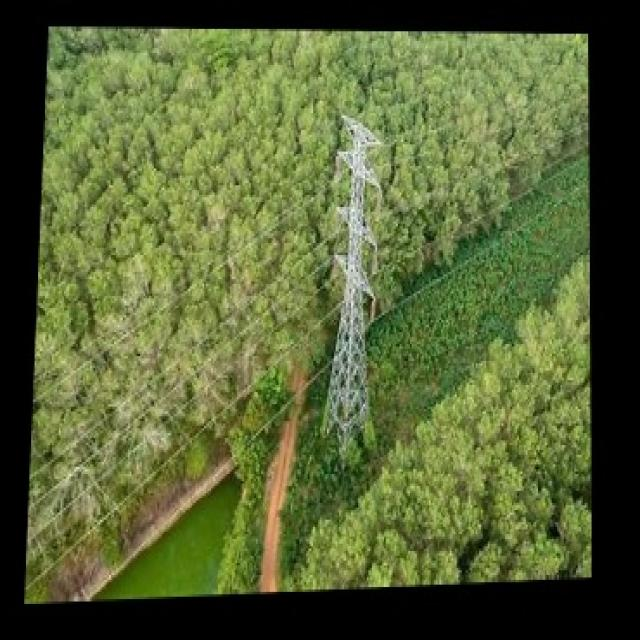utility poles: (332, 107, 384, 464)
